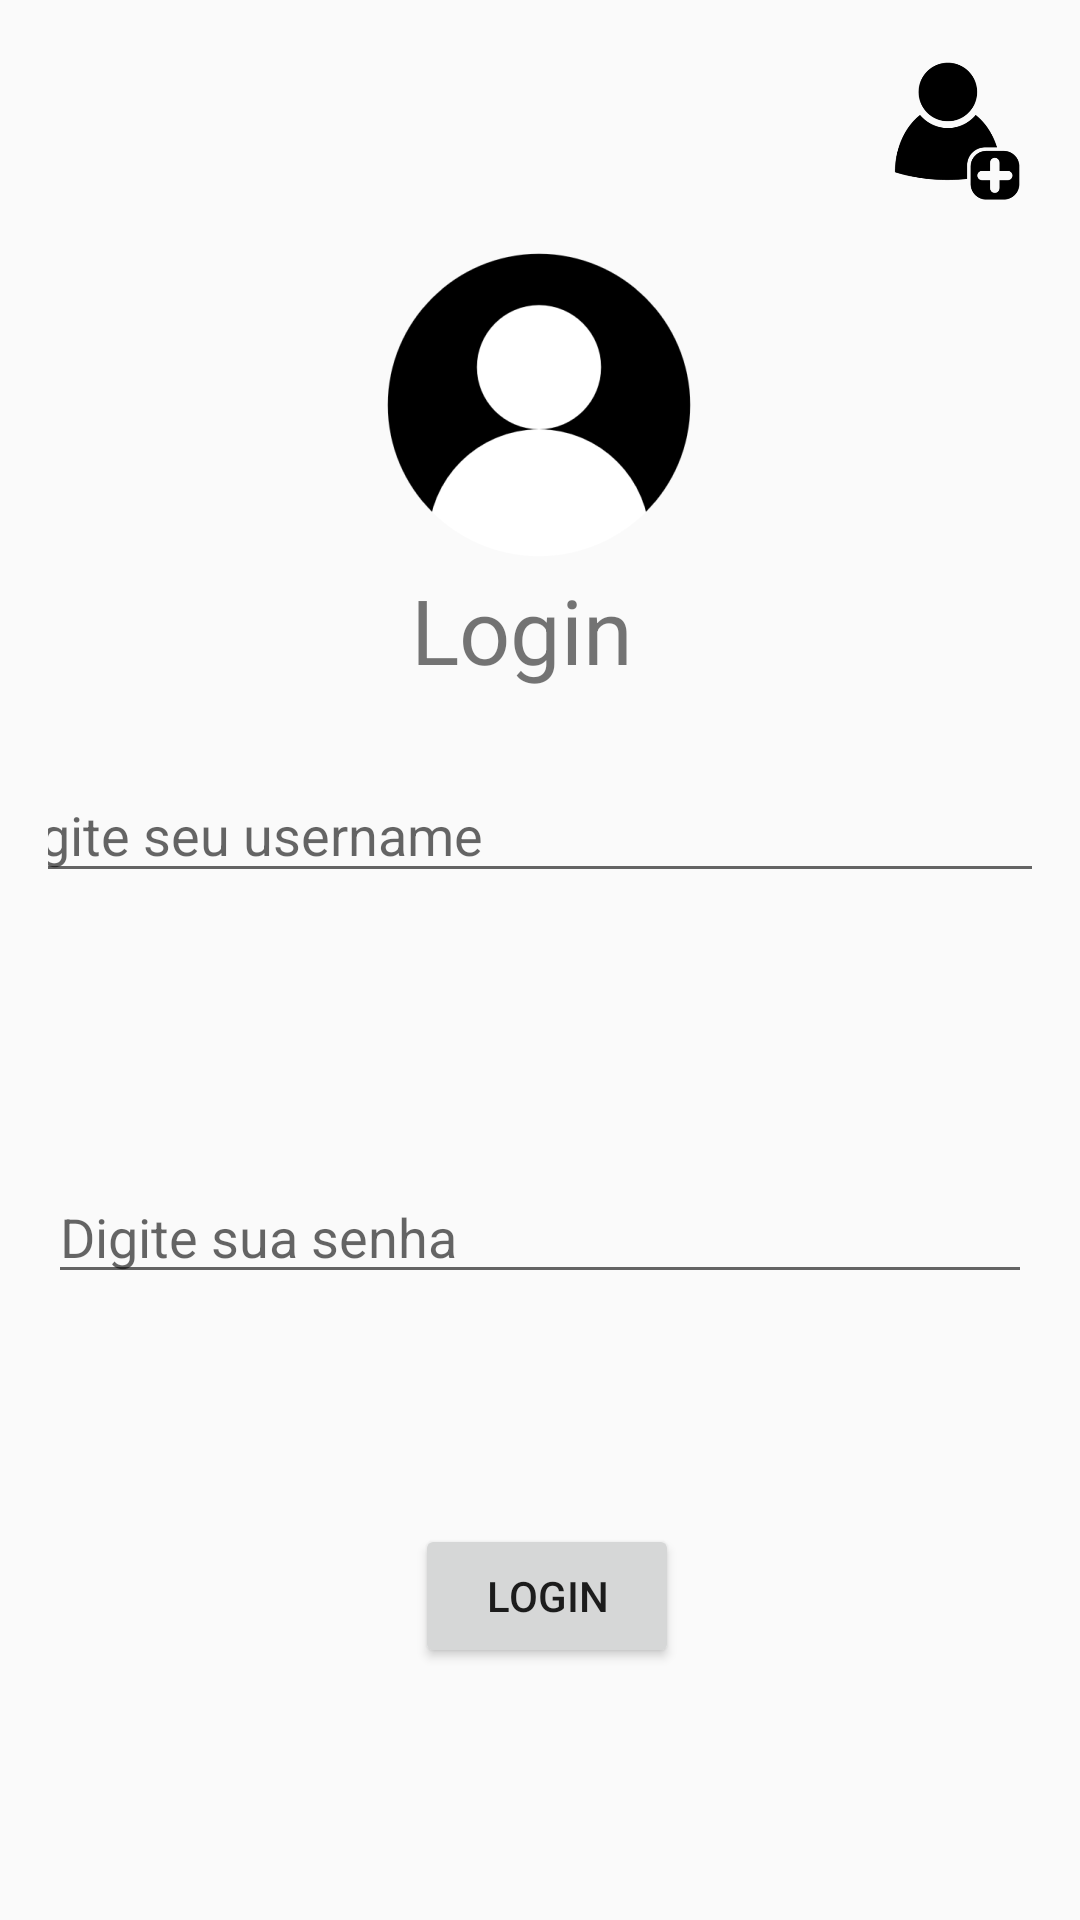

Where icons sit on this 1080px×1920px app screen, as [x1,y1,x2,y2]:
add user: [895,62,1020,200]
usuario: [387,253,691,512]
